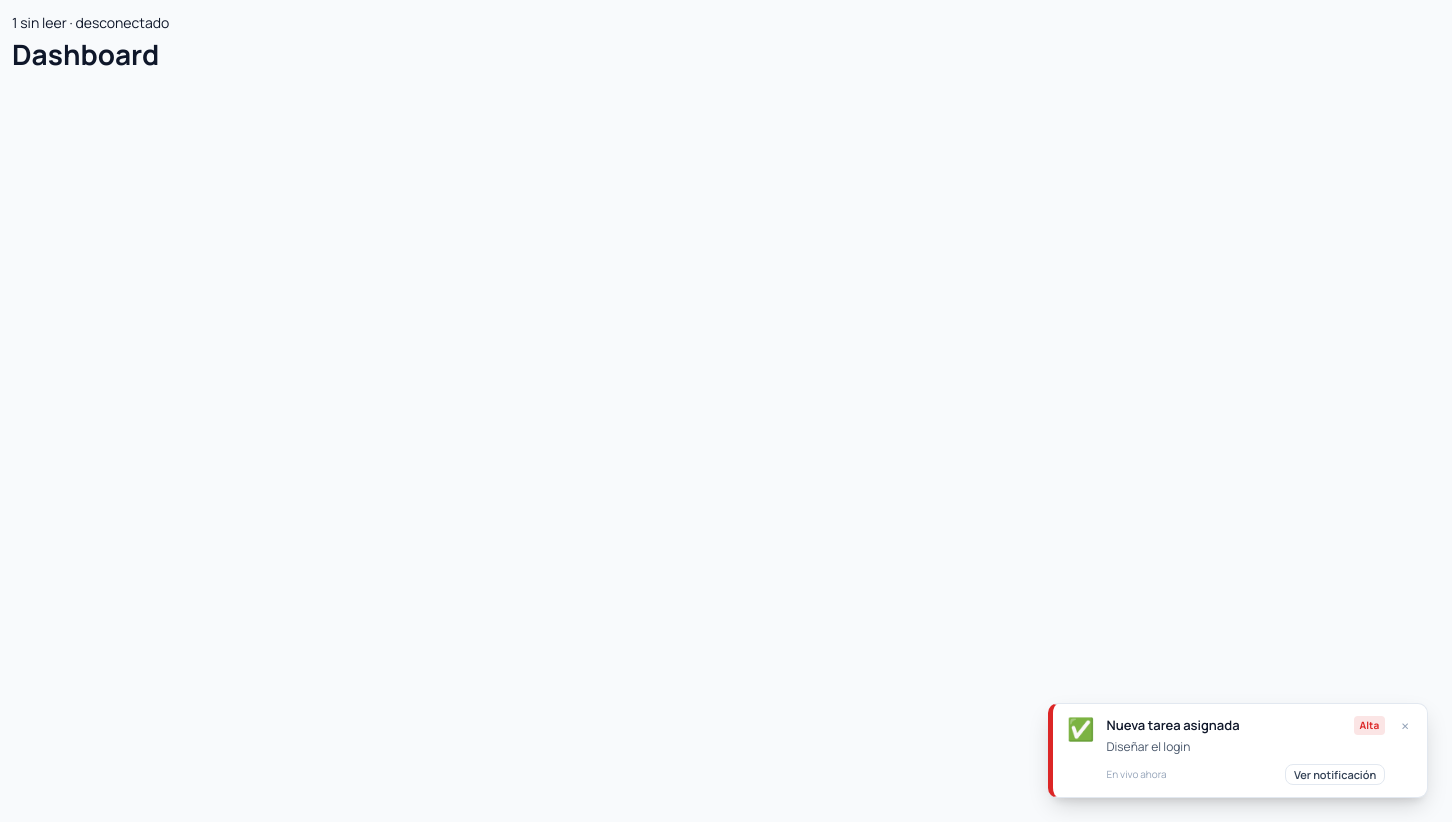
Test case: notificaciones en tiempo real › should close only the toast with "Cerrar notificación"
What coordinates should you click on to do the following:
click the button named "Cerrar notificación"
I would click on:
 (1405, 726)
Its box is [1397,716,1413,736].
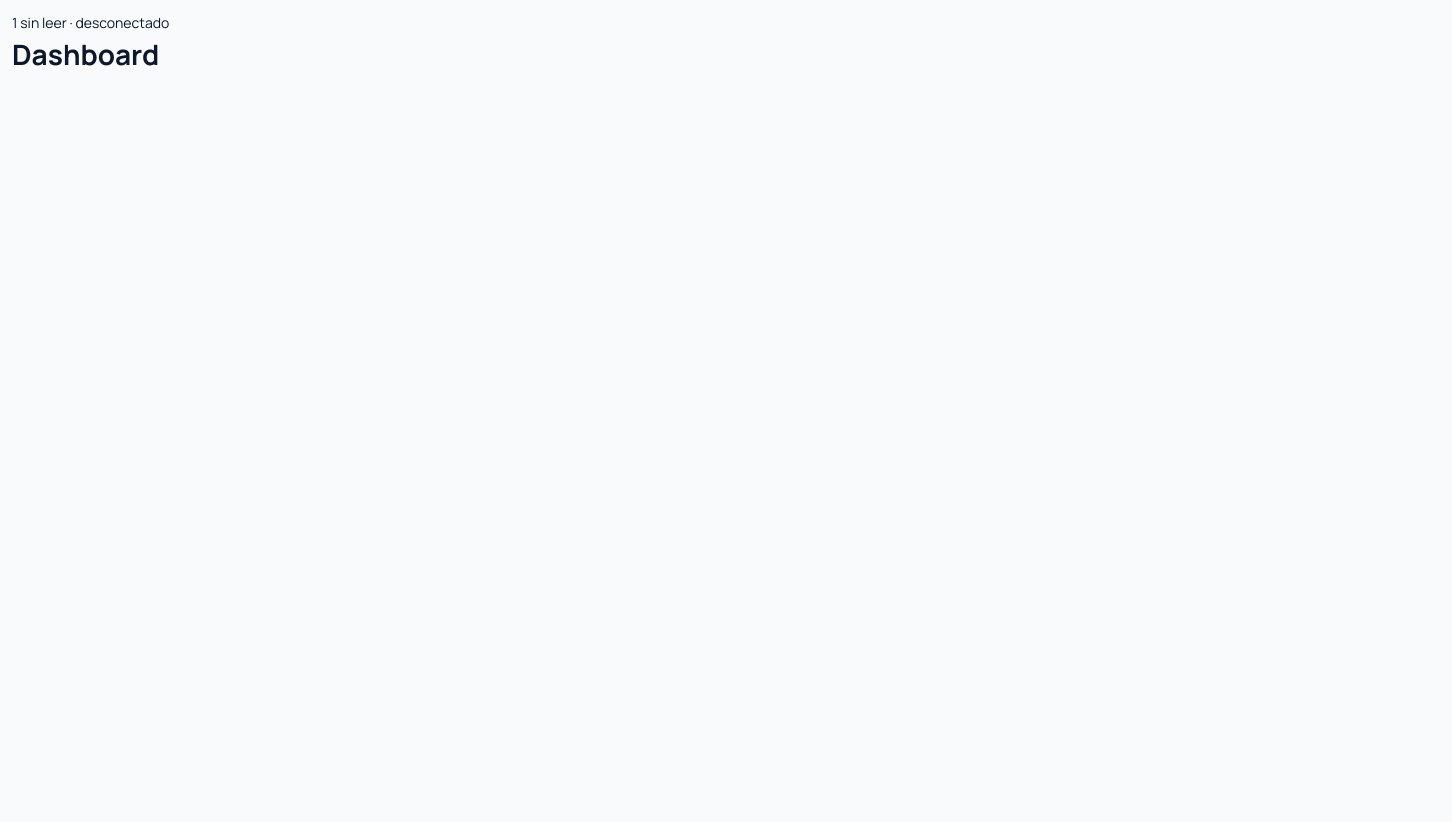
Expected: the text "1 sin leer · desconectado" is shown, [12,13,169,32]
Result: the text "Diseñar el login" is gone
